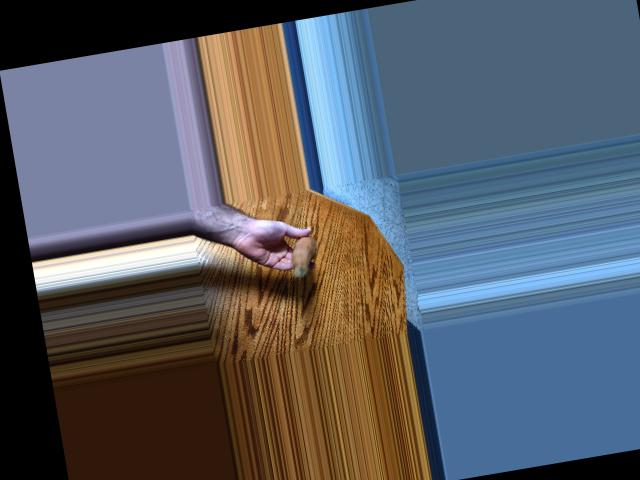sweet_potato: (283, 232, 316, 279)
